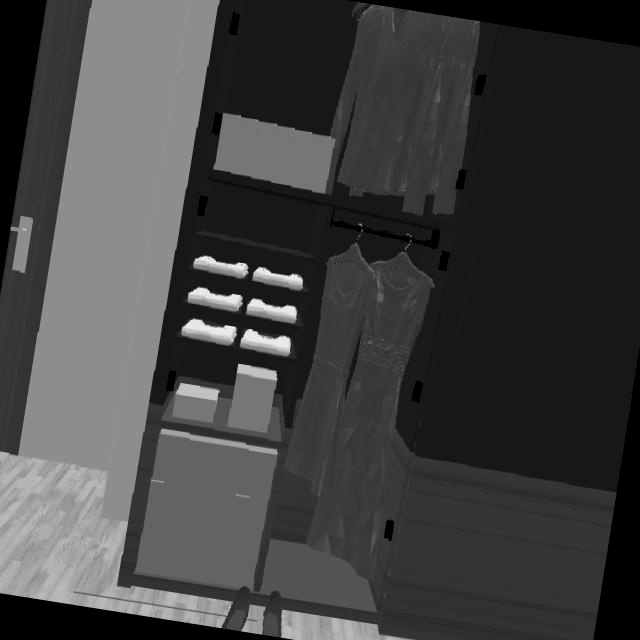wardrobe: (121, 0, 640, 640)
